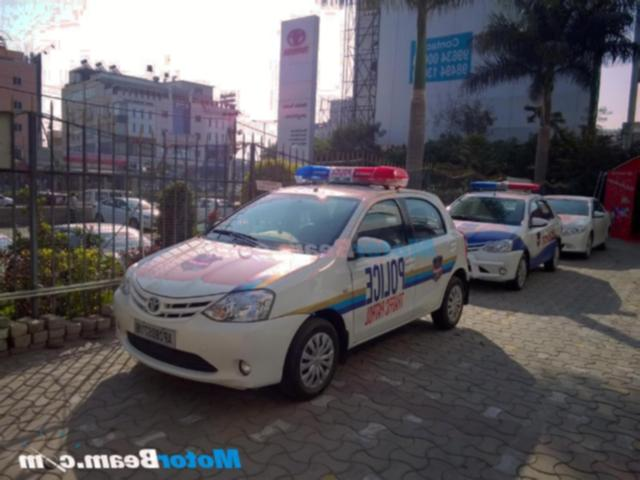police_car: (109, 162, 470, 396)
